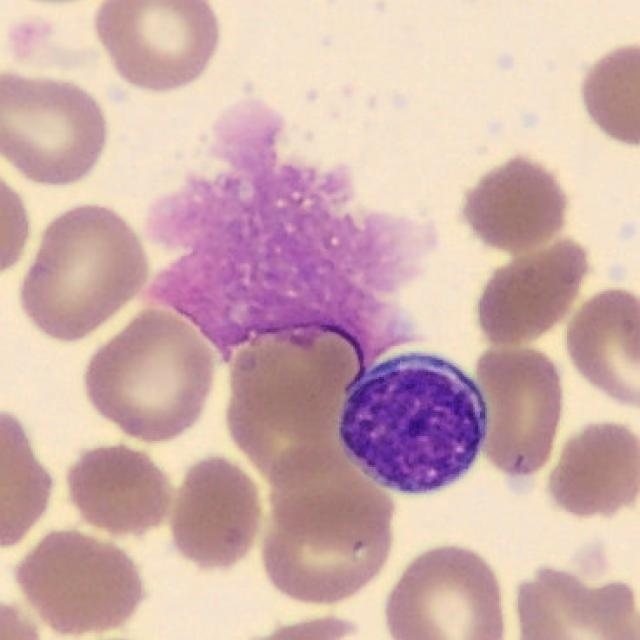Linfocito: (337, 346, 487, 496)
